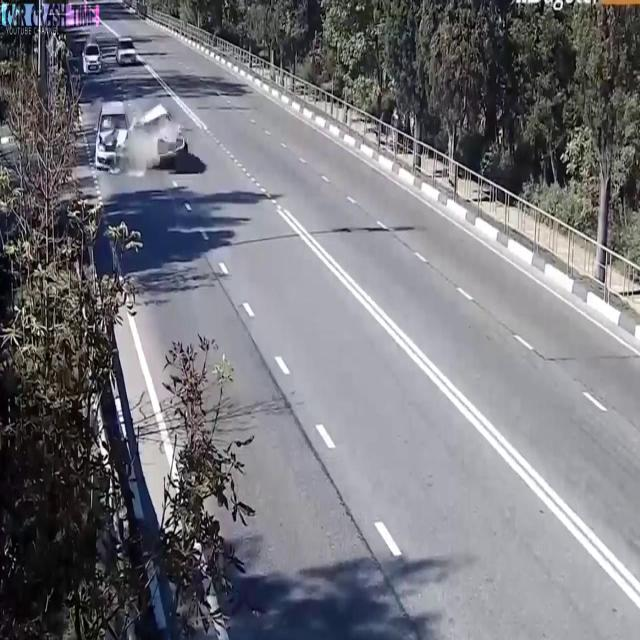accident: (92, 91, 192, 184)
